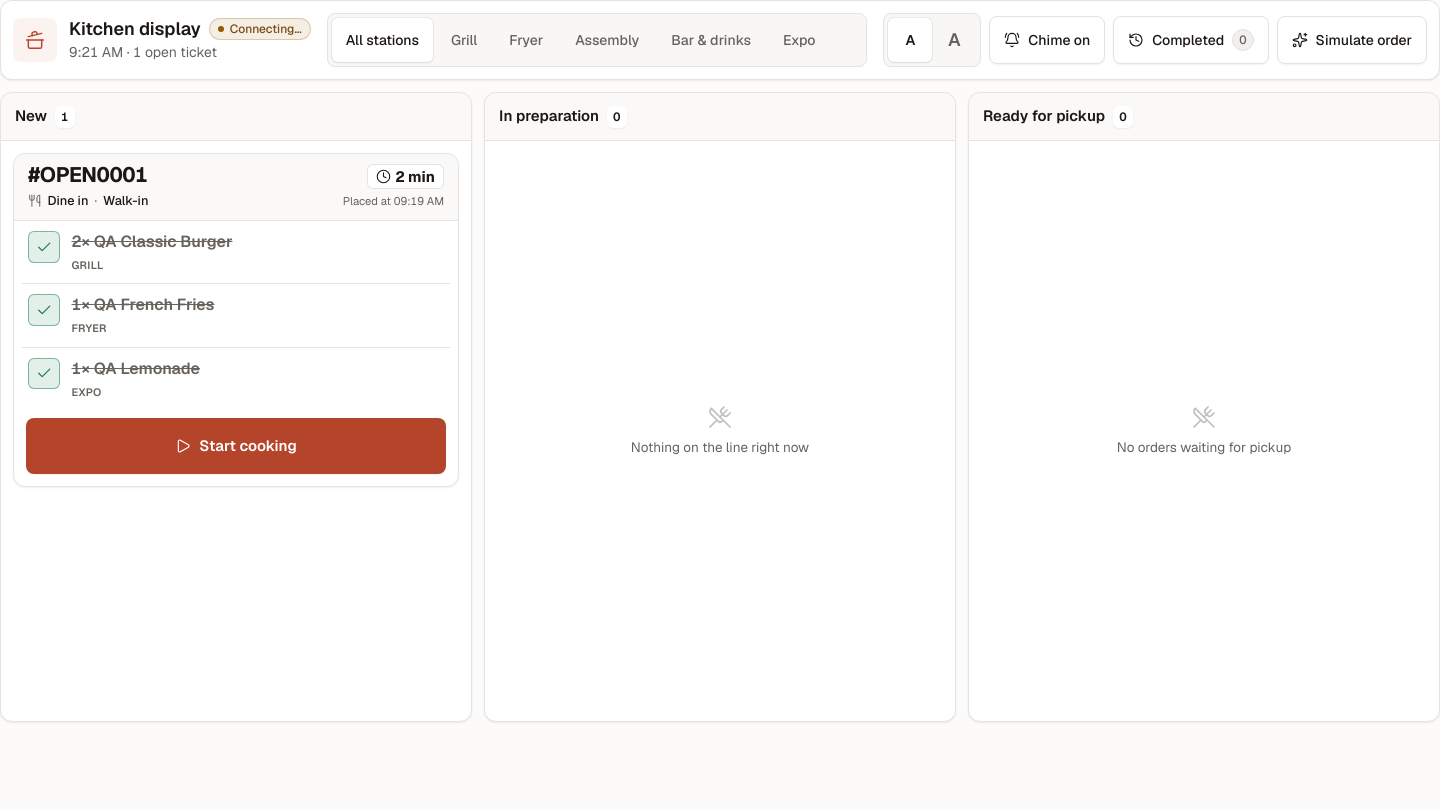
kitchen board (KDS) › presentation mode: simulated tickets stay in the browser (no server write); leaving reloads the real board
The width and height of the screenshot is (1440, 810).
Expected: the text "#OPEN0001" is shown, [28, 164, 148, 185]
Step 1. Click the button "Simulate order" → (1352, 40), box [1277, 16, 1427, 64]
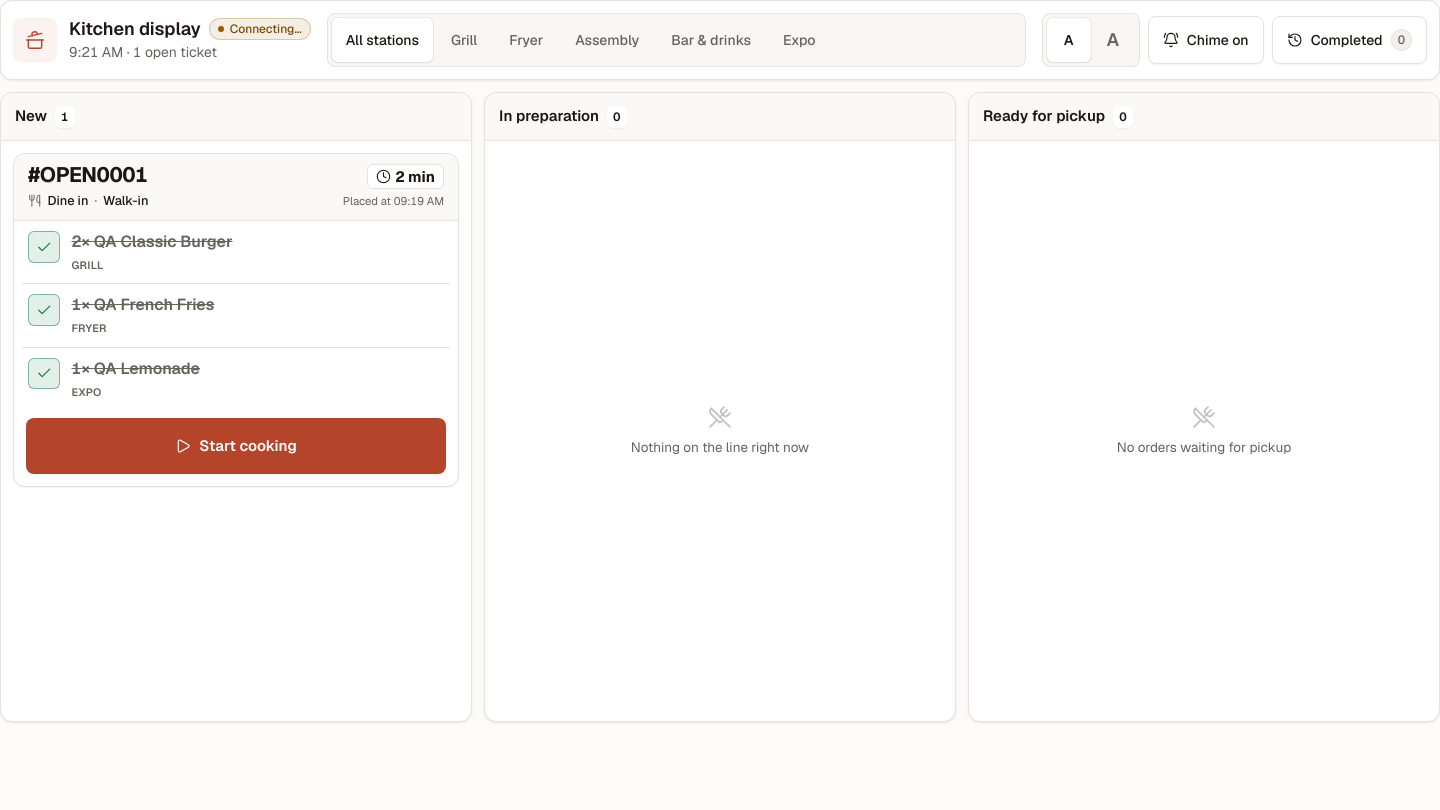
Expected: the text "#OPEN0001" is shown, [28, 164, 148, 185]
Expected: the button "Simulate order" is gone
